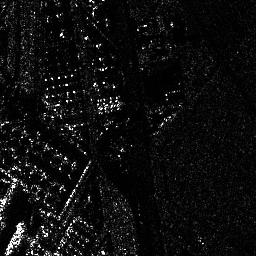ship: (3, 220, 26, 255)
